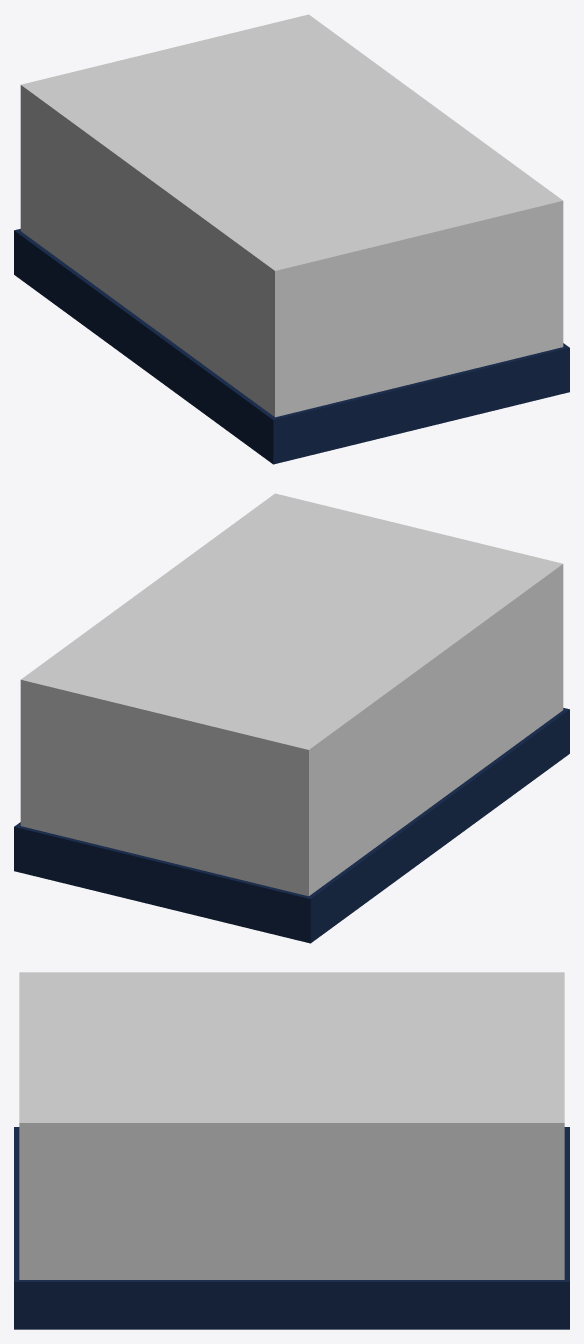
3 views of the same model, one above another, from view 1: azimuth 30°, elevation 25°; view 2: azimuth 150°, elevation 25°; view 3: azimuth 270°, elevation 25° (orthographic). The views are drawn at different scales.
Parts seen in each view (by area): view 1: socket_foot_l.attachment; view 2: socket_foot_l.attachment; view 3: socket_foot_l.attachment.
Boxes of the visible parts, x1,y1,x2,y2 form: socket_foot_l.attachment: (14,14,569,464); socket_foot_l.attachment: (14,493,569,943); socket_foot_l.attachment: (14,972,569,1329).
Bounding box in the file's own units: 0.35 × 0.215 × 0.53.
